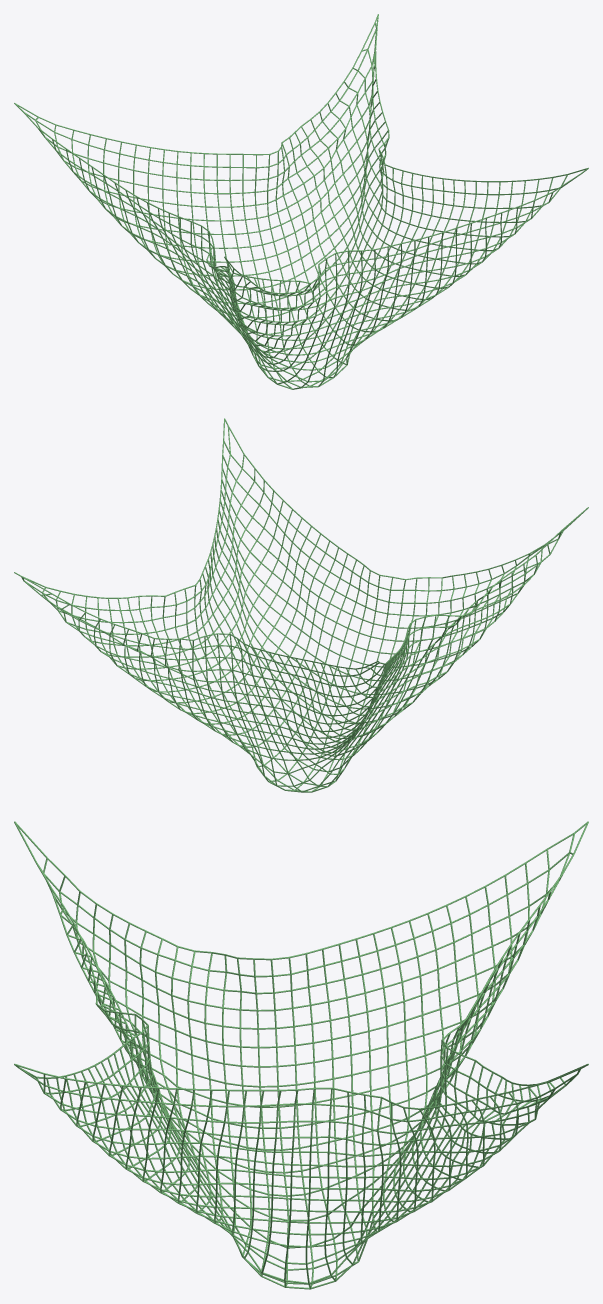
Rendered from greenNet.fbx.
3 views of the same model, one above another, from view 1: azimuth 30°, elevation 25°; view 2: azimuth 150°, elevation 25°; view 3: azimuth 270°, elevation 25° (orthographic). The views are drawn at different scales.
Visible parts, largest first — view 1: 平面_4; view 2: 平面_4; view 3: 平面_4.
Part boxes in pixels (box(x1,y1,x2,y2)): 平面_4: box(14, 14, 588, 389); 平面_4: box(14, 418, 588, 792); 平面_4: box(14, 821, 588, 1289).
Bounding box in the file's own units: 236 × 154 × 236.
